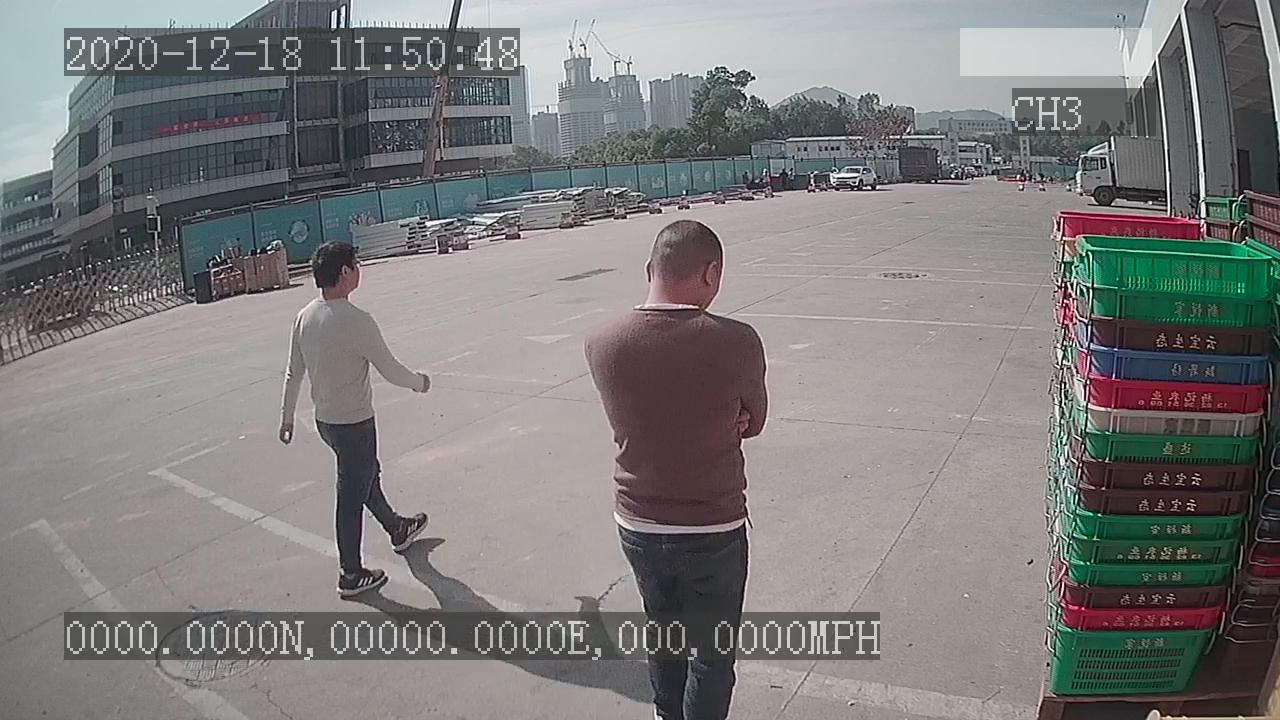person: (270, 236, 440, 602)
